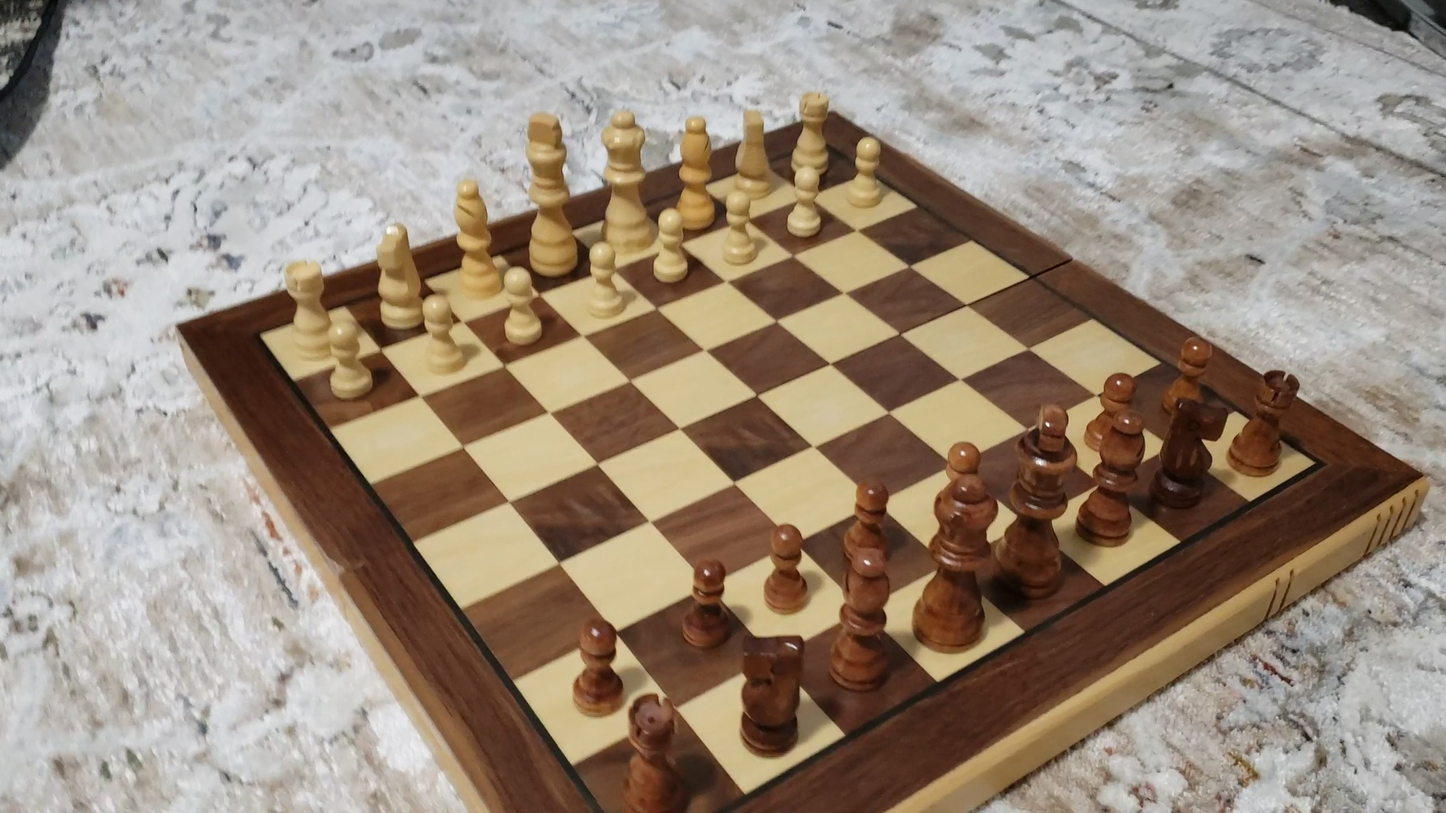black-bishop: (1076, 407, 1152, 548), (830, 536, 894, 694)
black-king: (1005, 401, 1076, 604)
black-knight: (1149, 393, 1229, 511), (738, 633, 805, 756)
black-pawn: (569, 615, 626, 719), (677, 554, 733, 652), (1083, 370, 1142, 458), (842, 475, 893, 571), (762, 519, 809, 615)
black-queen: (911, 471, 1002, 654)
black-rook: (1230, 369, 1301, 478), (622, 692, 687, 810)
white-bishop: (450, 172, 500, 303), (675, 113, 716, 233)
white-king: (522, 107, 578, 281)
white-knight: (372, 220, 425, 333), (734, 99, 774, 204)
white-pawn: (319, 312, 380, 405), (495, 263, 550, 351), (414, 290, 469, 378), (579, 238, 633, 325), (644, 203, 696, 290), (840, 131, 892, 214), (780, 159, 829, 244), (714, 187, 763, 272)
white-queen: (599, 107, 652, 255)
white-rook: (280, 257, 333, 360), (790, 88, 834, 186)
